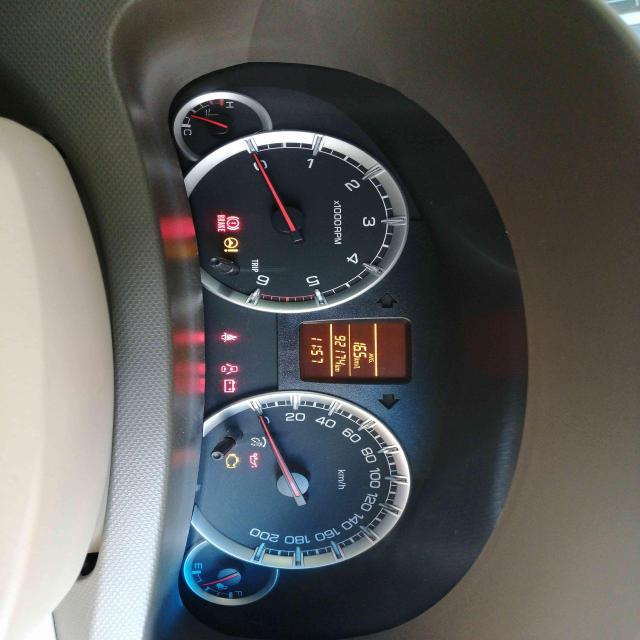Braking System Issue: (216, 214, 241, 232)
Charging System Issue: (223, 379, 237, 393)
Check Engine: (225, 454, 240, 468)
Low Engine Oil Warning Light: (249, 452, 259, 468)
